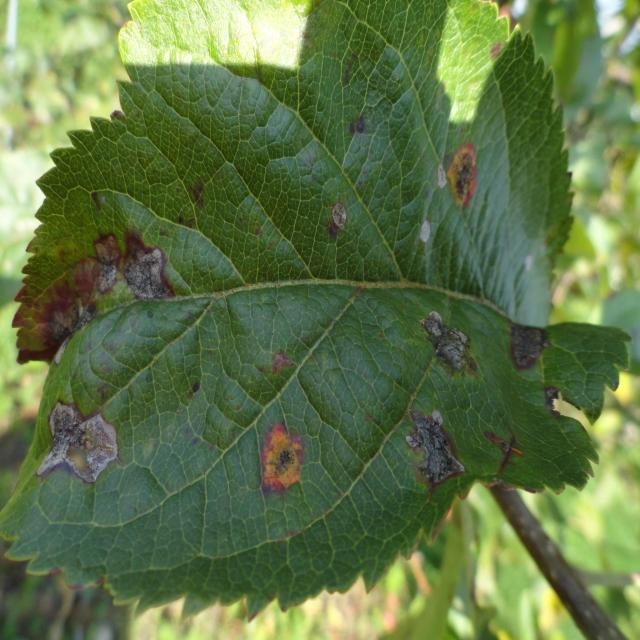Black Rot: (19, 390, 155, 507), (110, 219, 178, 330), (499, 311, 565, 415), (420, 302, 484, 394), (394, 413, 460, 500), (315, 197, 352, 235), (414, 213, 436, 252), (432, 157, 448, 203)
Rust: (447, 132, 491, 238), (256, 419, 306, 499), (266, 338, 291, 394)
